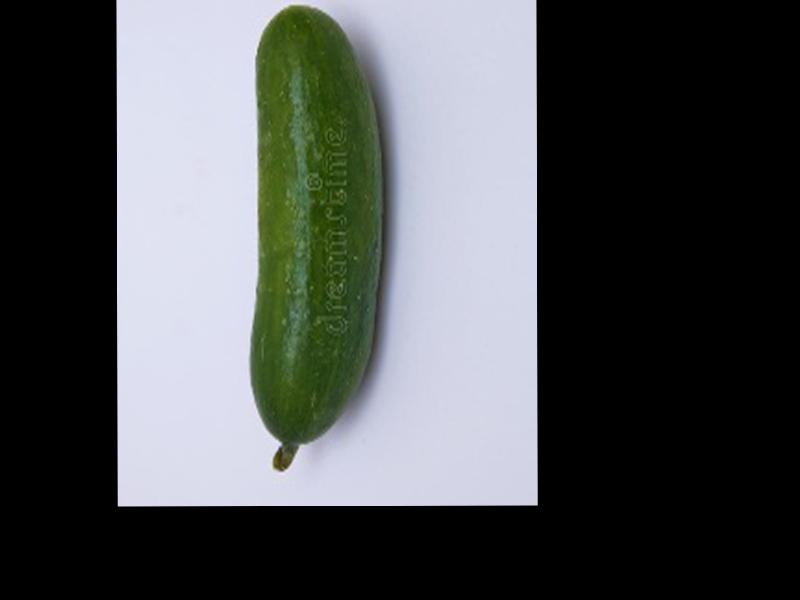Cucumber: (250, 4, 384, 471)
